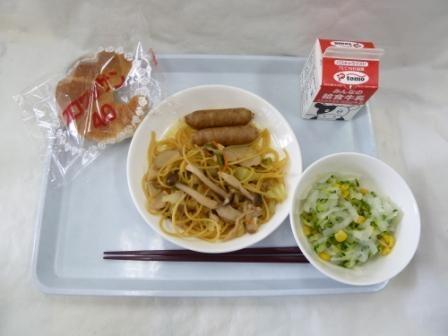Milk: (292, 35, 386, 120)
Salad: (302, 156, 408, 277)
pasta: (142, 142, 292, 243)
pastry: (49, 51, 165, 139)
sausages: (185, 100, 255, 150)
